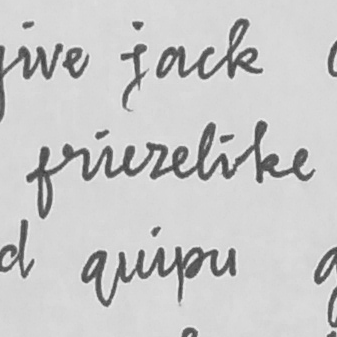e: (290, 145, 317, 183), (118, 140, 140, 179), (170, 143, 192, 181)
f: (34, 144, 55, 220)
i: (215, 131, 239, 182), (98, 130, 117, 180)
k: (251, 118, 283, 185)
l: (193, 119, 220, 183)
r: (59, 141, 92, 185)
z: (142, 139, 170, 181)
